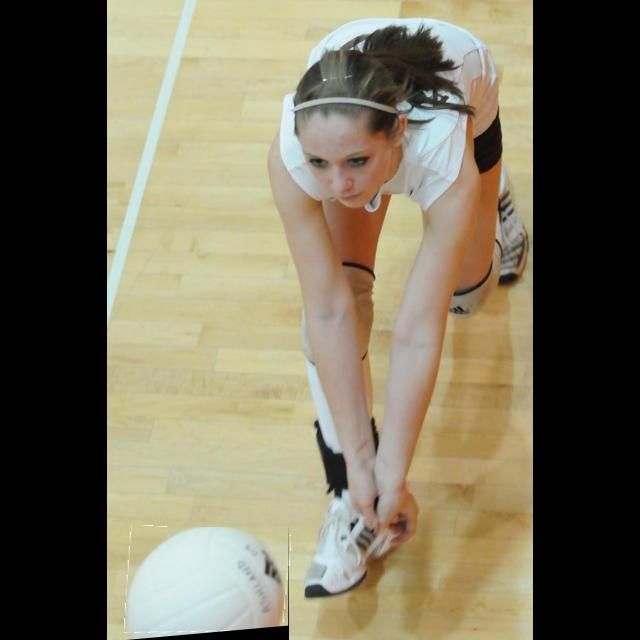Football: (126, 527, 289, 640)
